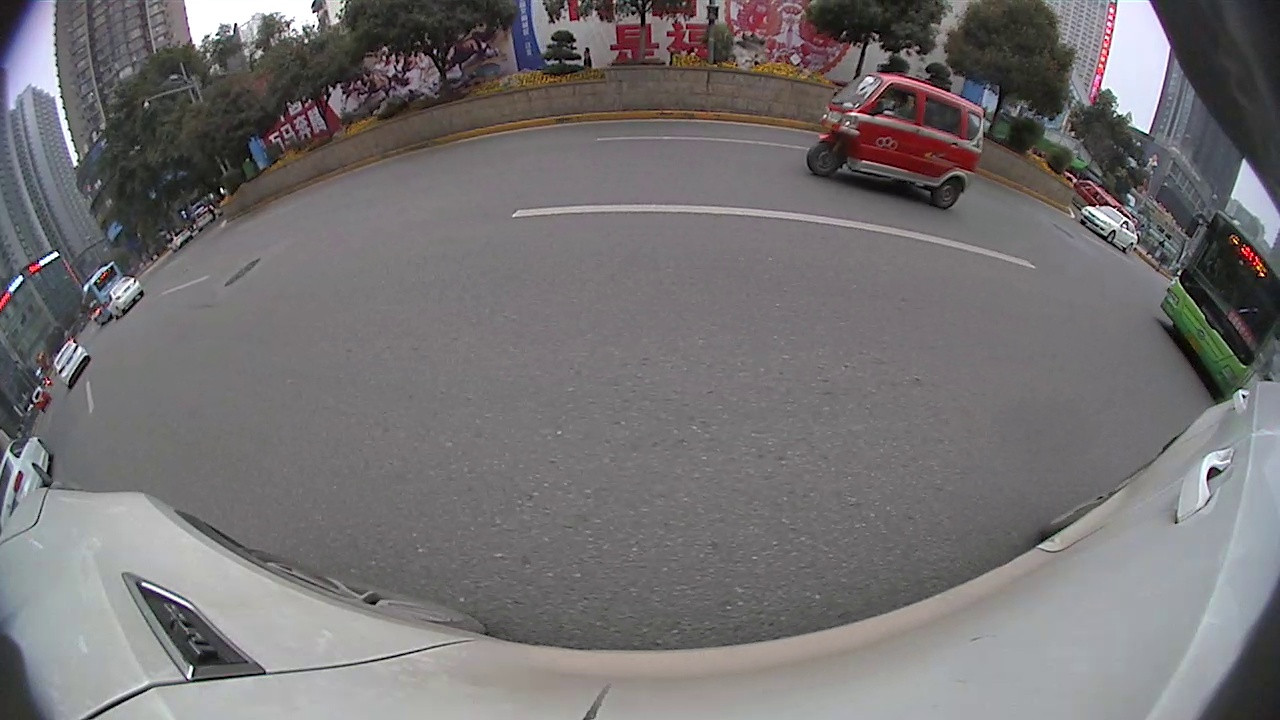bus: (1157, 208, 1279, 403), (80, 261, 124, 327)
car: (3, 435, 53, 526), (1077, 203, 1138, 253), (49, 336, 93, 390), (108, 273, 146, 319)
front: (805, 138, 848, 177), (1104, 231, 1119, 245)
rear: (931, 177, 961, 210), (1123, 242, 1136, 256)
rider: (803, 70, 988, 211), (1070, 178, 1118, 221)
